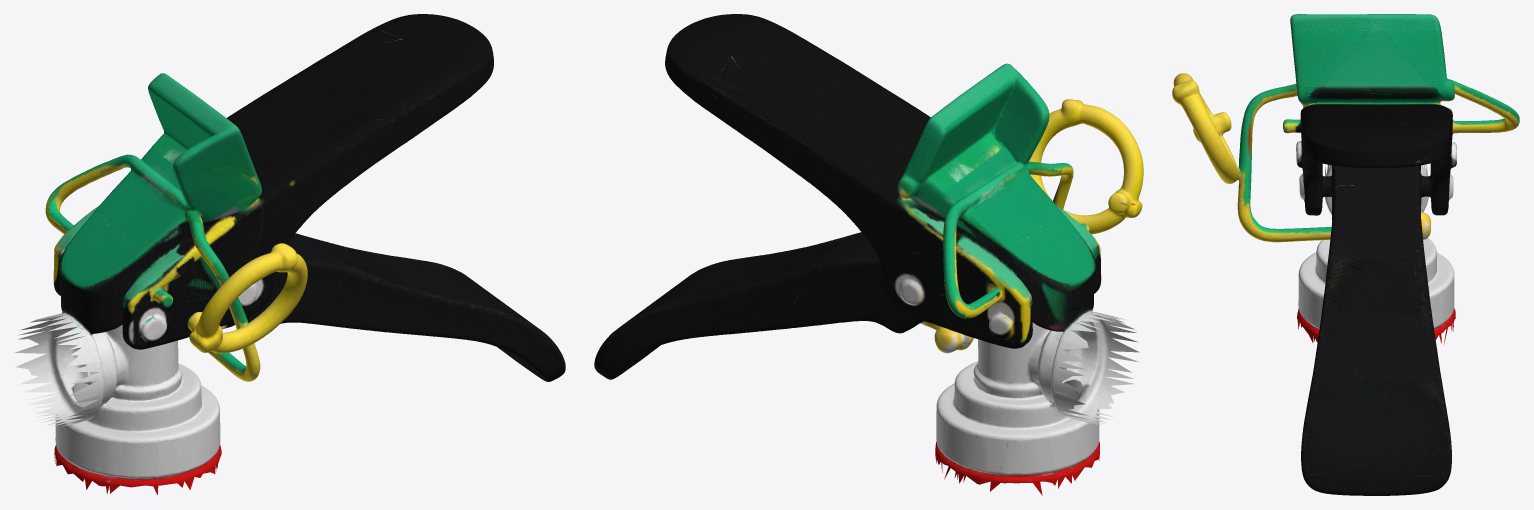
Rendered from insp_fehead.glb.
3 views of the same model, side by side, from view 1: azimuth 30°, elevation 25°; view 2: azimuth 150°, elevation 25°; view 3: azimuth 270°, elevation 25° (orthographic). The views are drawn at different scales.
Size of the model in its own units: 0.428 by 0.2997 by 0.2777.
1 material, 1 textured.
